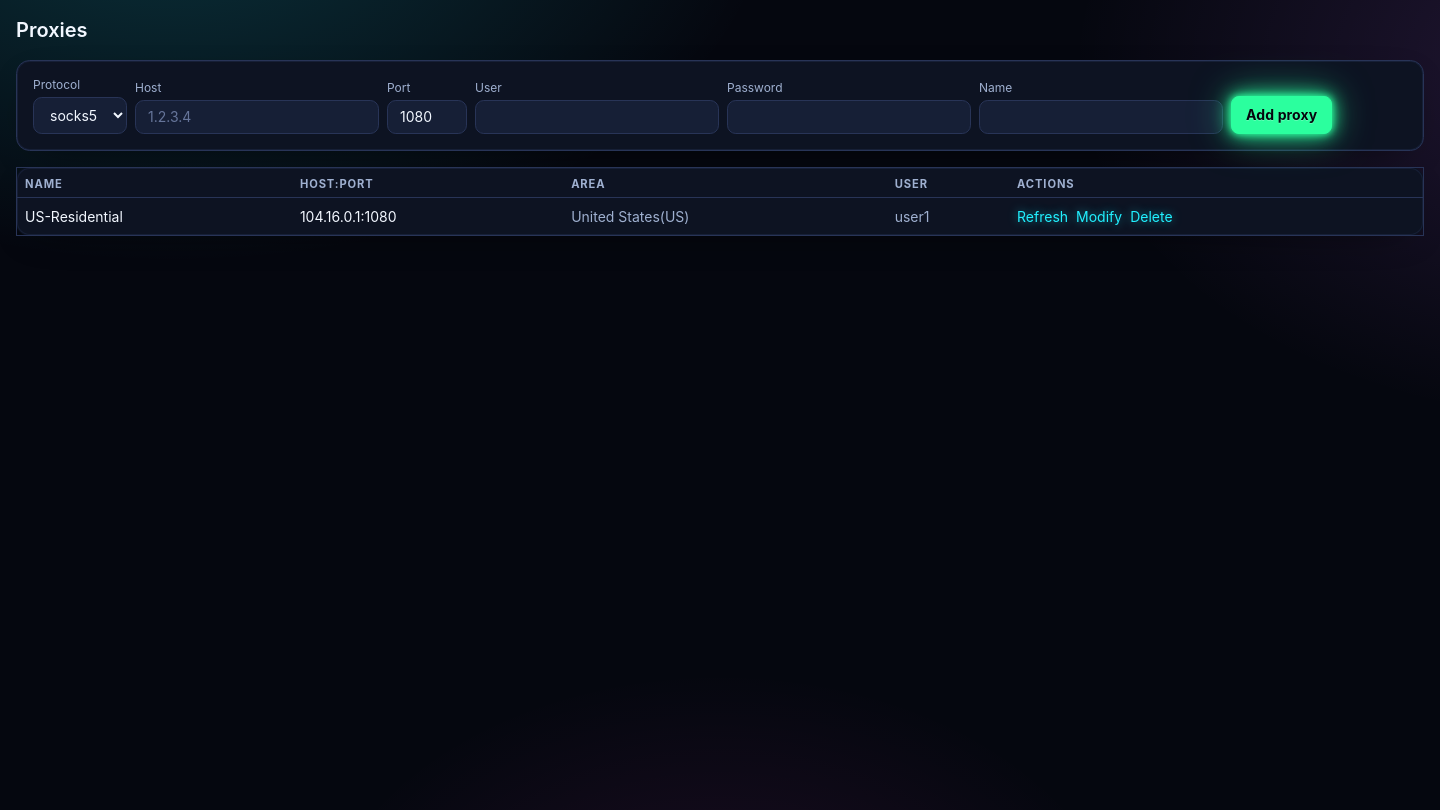
ProxiesPage › adds a proxy via the form
Expected: the text "US-Residential" is shown, [16,197,292,235]
In the field with placeholder "1.2.3.4": [257, 117] box [135,100,379,134], type "9.9.9.9"
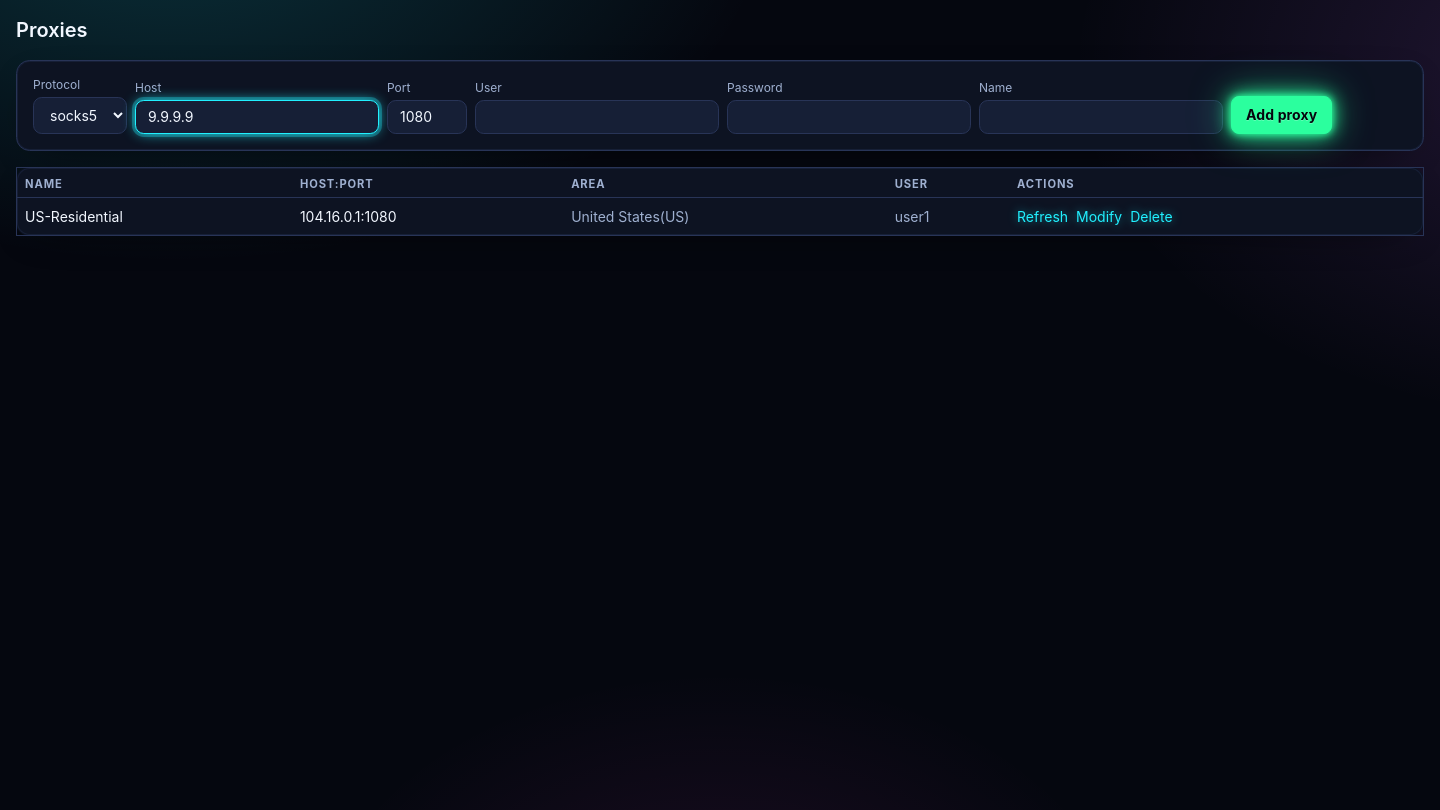
Click the button "Add proxy": [1282, 115] box [1231,96,1332,134]
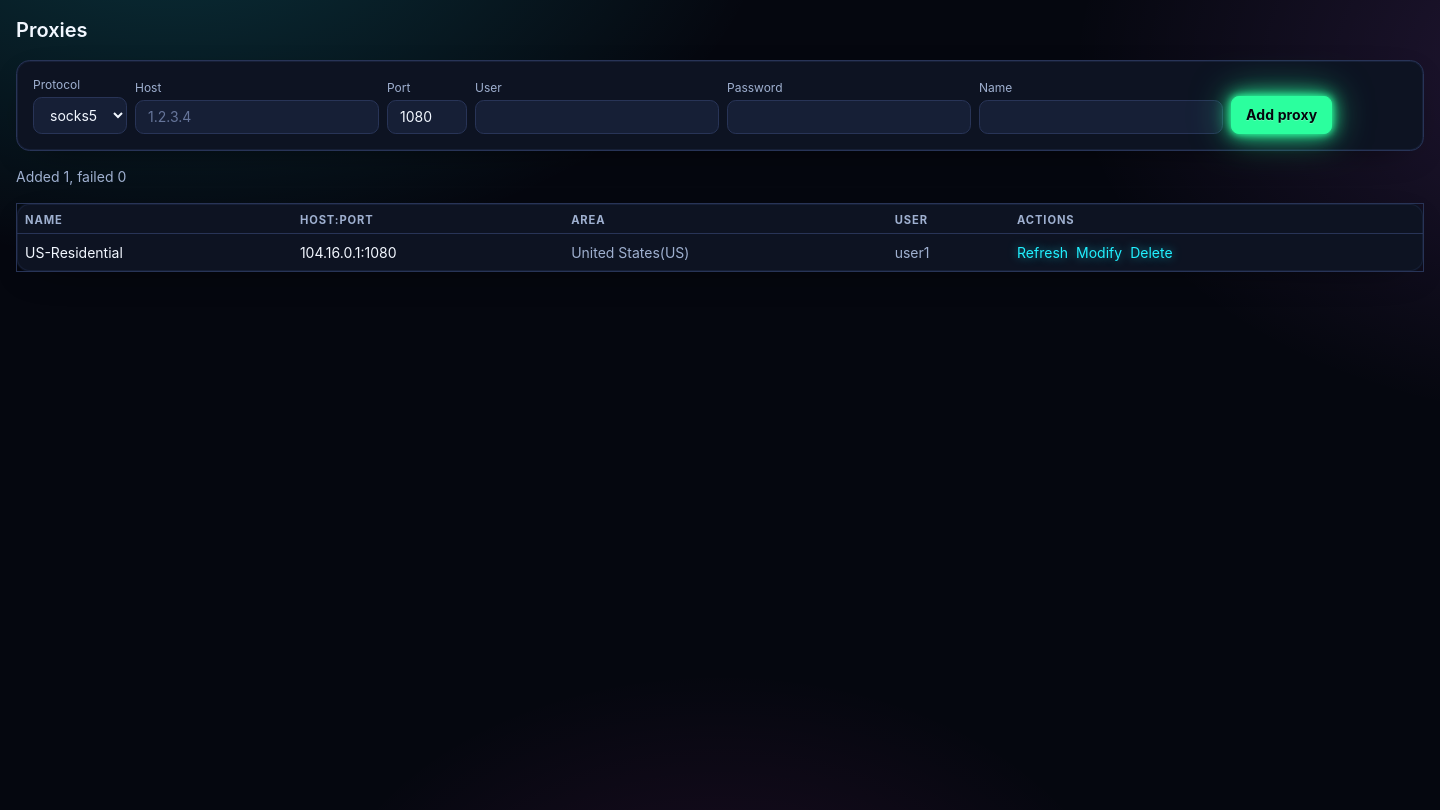
Result: the text "Added 1, failed 0" is shown at [16,168,126,185]
